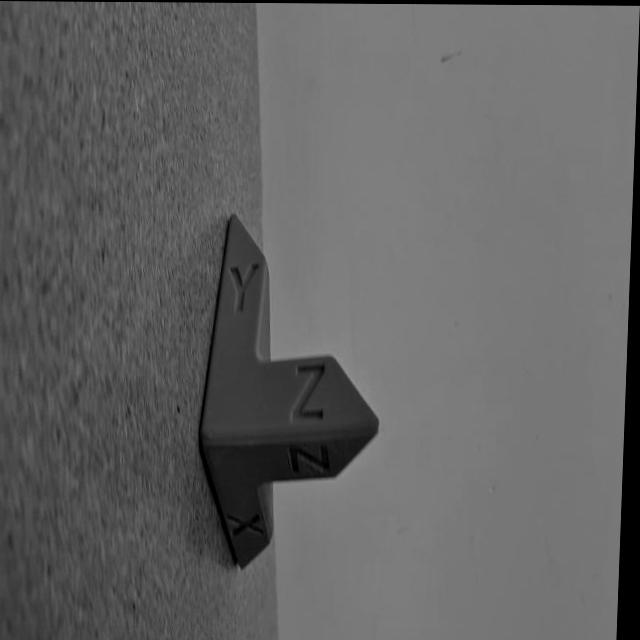eje: (188, 209, 394, 578)
